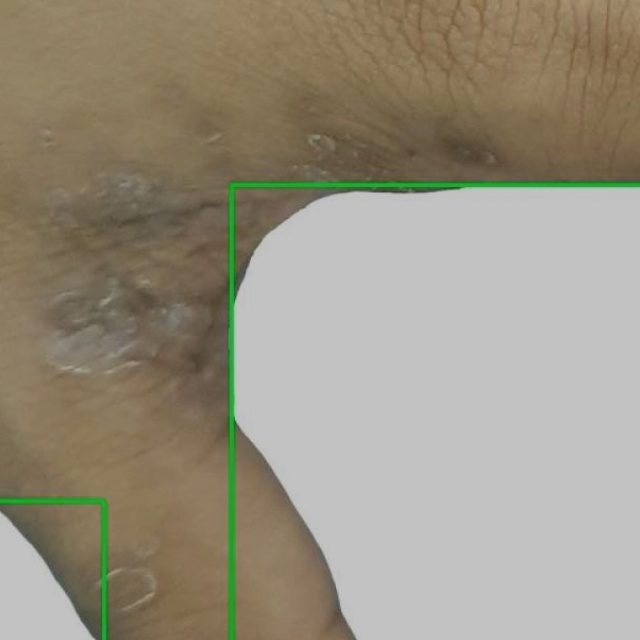Scabies: (0, 0, 639, 639), (231, 185, 639, 639), (0, 501, 104, 639)
